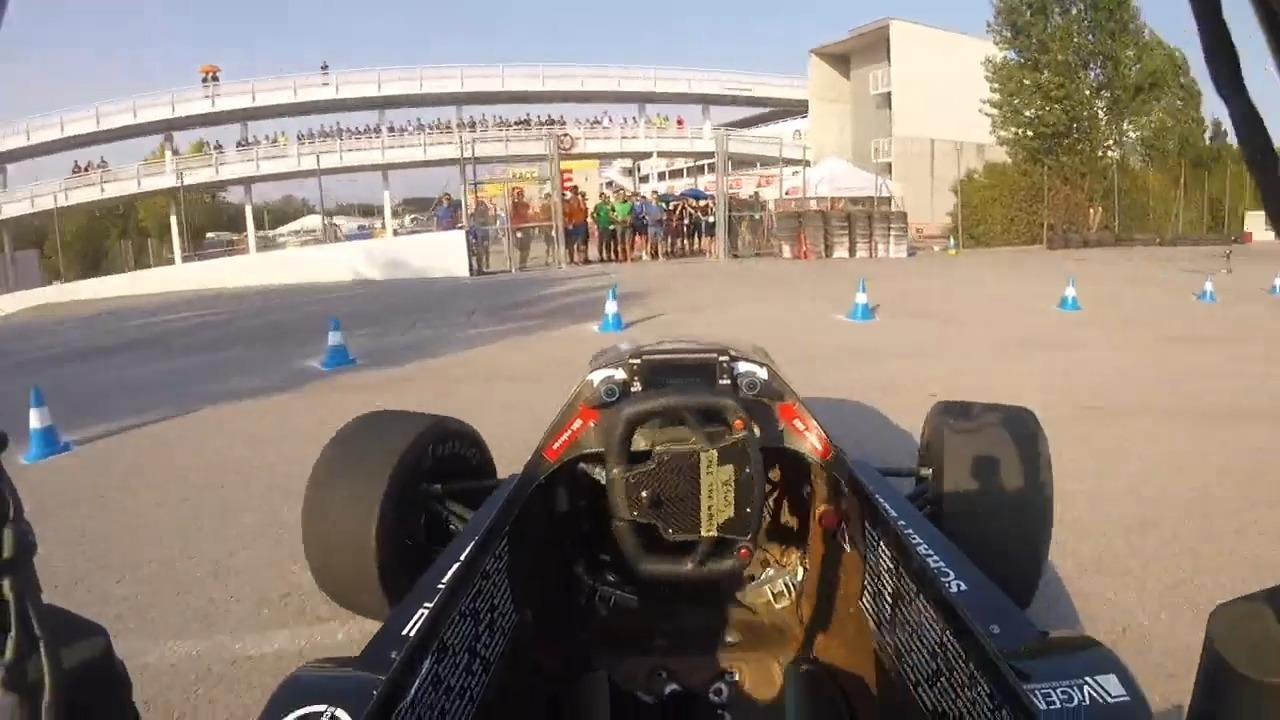blue_cone: (25, 386, 68, 461), (322, 318, 351, 371), (599, 287, 624, 334), (848, 277, 875, 320), (1057, 277, 1079, 310), (1200, 275, 1215, 304)
